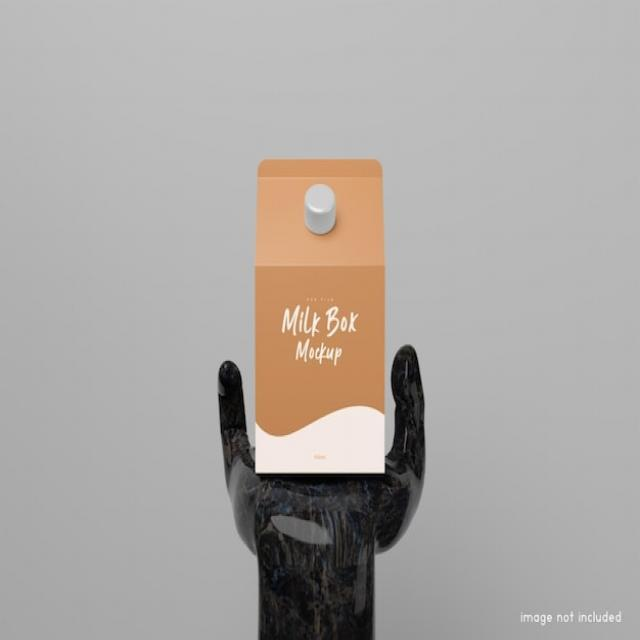non_white_jug: (236, 138, 391, 491)
